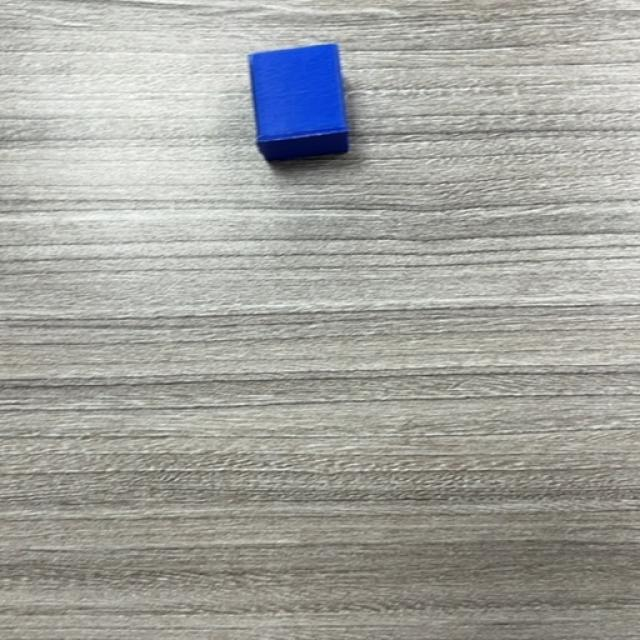Azul: (248, 44, 351, 162)
